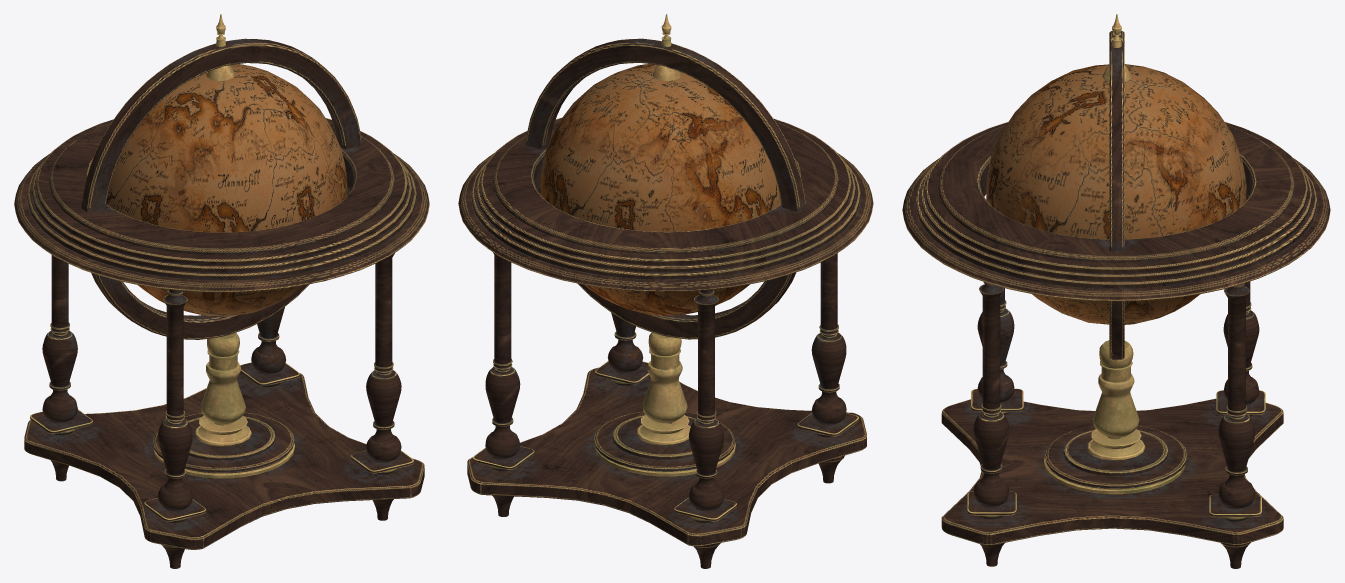
Rendered from SM_Globe.fbx.
3 renders of one model, left to right at view 1: azimuth 30°, elevation 25°; view 2: azimuth 150°, elevation 25°; view 3: azimuth 270°, elevation 25°, orthographic. The views are drawn at different scales.
Parts seen in each view (by area): view 1: SM_Globe_LOD0; view 2: SM_Globe_LOD0; view 3: SM_Globe_LOD0.
Boxes of the visible parts, left/top/right/bottom form: SM_Globe_LOD0: left=14, top=14, right=429, bottom=568; SM_Globe_LOD0: left=458, top=14, right=873, bottom=568; SM_Globe_LOD0: left=902, top=14, right=1330, bottom=568.
Bounding box in the file's own units: 164 × 165 × 212.
1 material, 1 textured.
